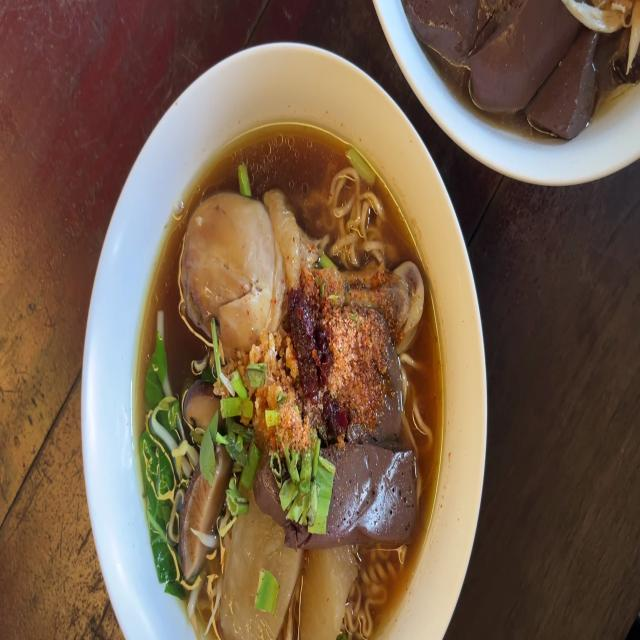noodle: (410, 0, 608, 136), (336, 448, 417, 547)
